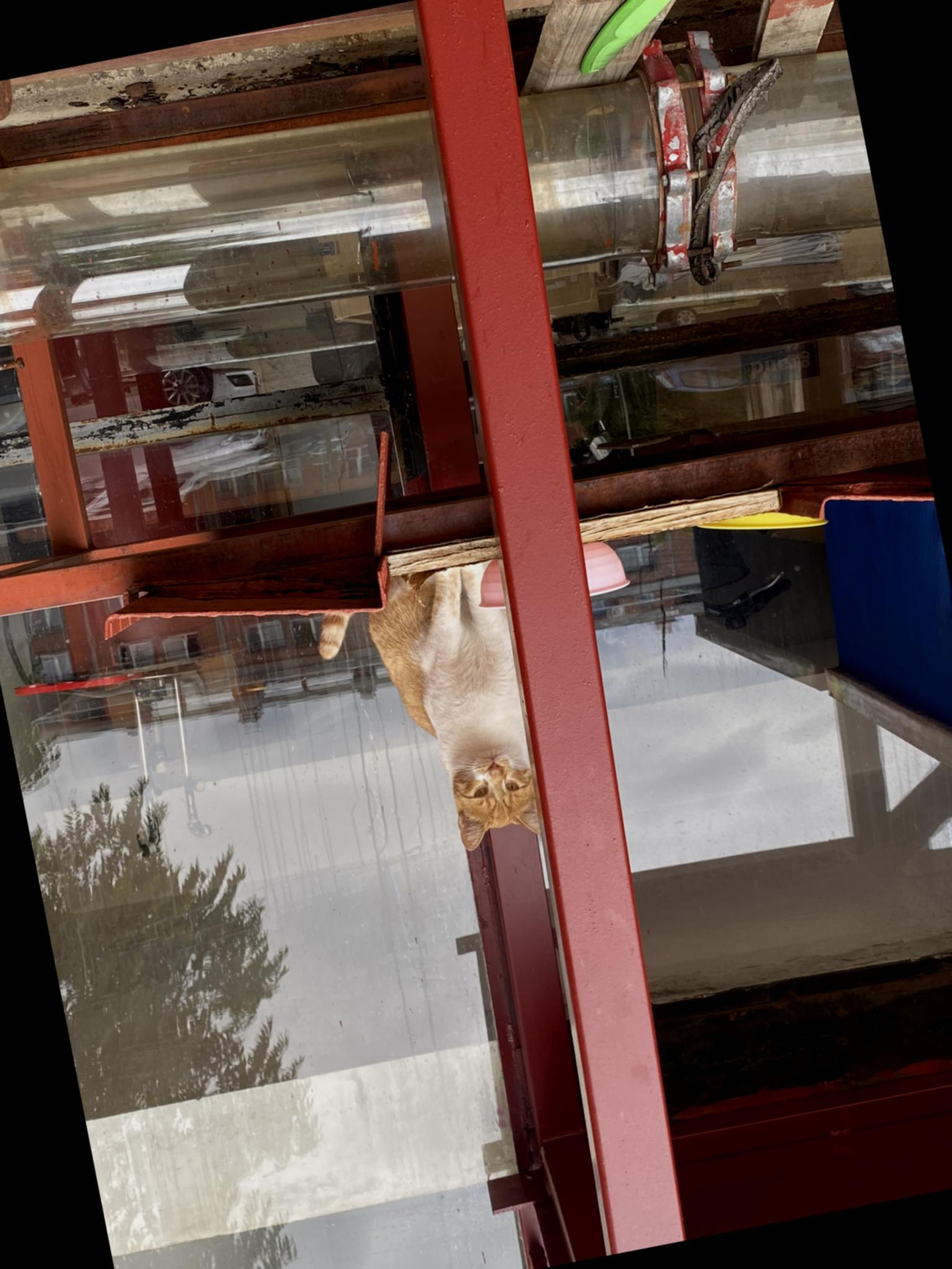macka: (306, 560, 548, 875)
